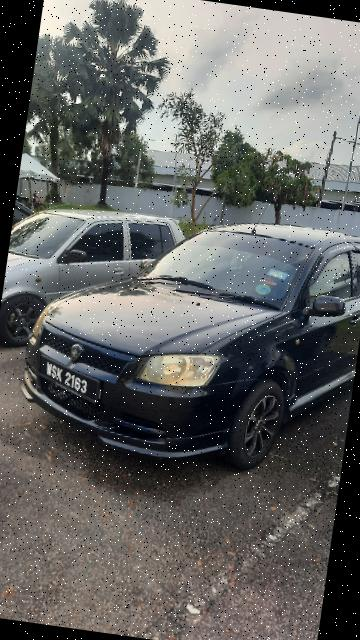License_Plate: (32, 358, 111, 409)
car: (6, 184, 360, 494), (1, 195, 201, 381)
